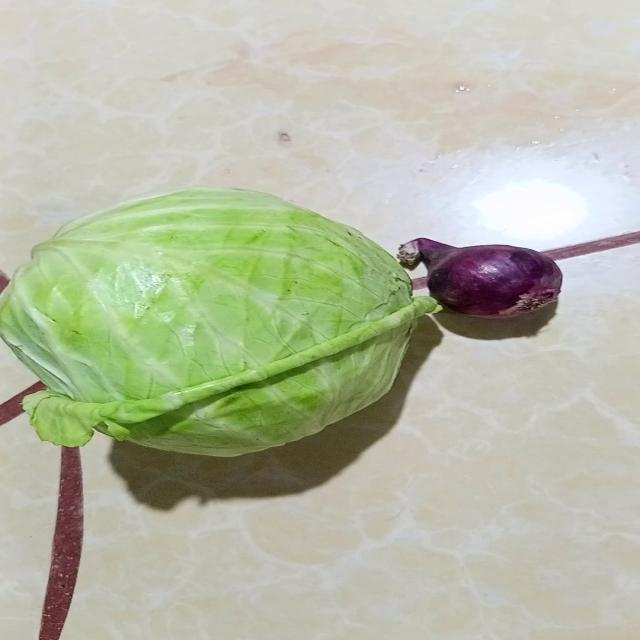cabbage: (0, 189, 414, 458)
onion: (396, 239, 565, 322)
